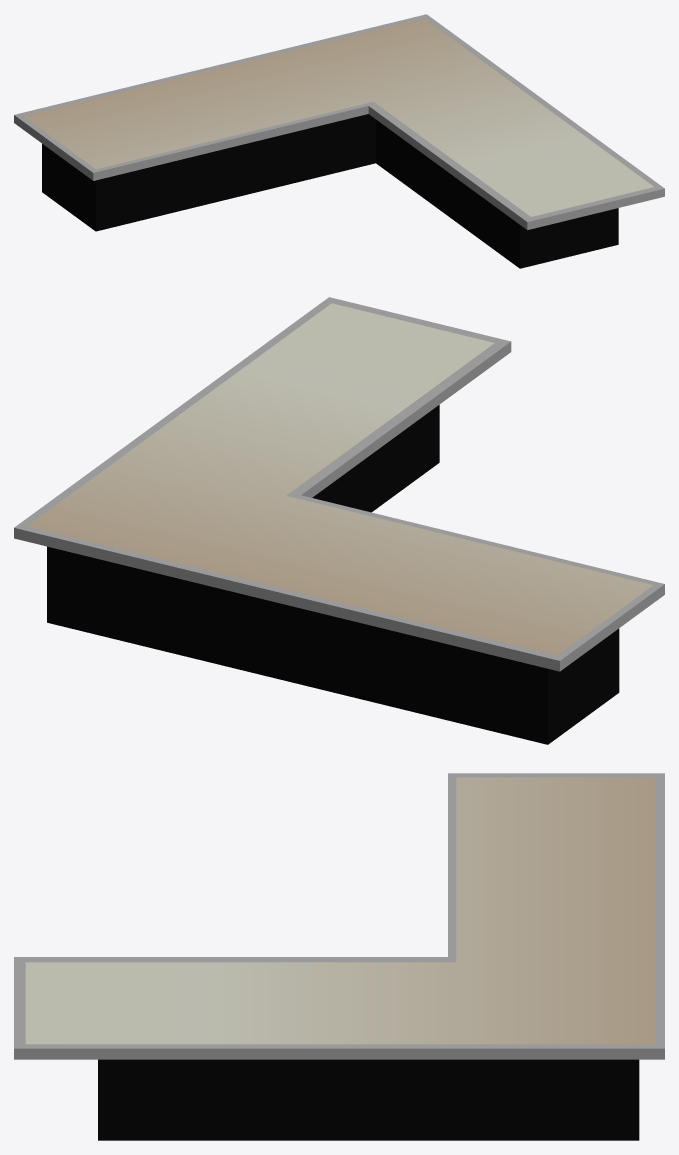
Rendered from SM_tableTShape.fbx.
3 renders of one model, top to bottom at view 1: azimuth 30°, elevation 25°; view 2: azimuth 150°, elevation 25°; view 3: azimuth 270°, elevation 25°, orthographic. The views are drawn at different scales.
Visible parts, largest first — view 1: pCube39, pCube40; view 2: pCube39, pCube40; view 3: pCube39, pCube40.
Boxes of the visible parts, x1=… form: pCube39: x1=14, y1=14, x2=664, y2=229; pCube40: x1=42, y1=114, x2=618, y2=268; pCube39: x1=14, y1=297, x2=664, y2=671; pCube40: x1=47, y1=405, x2=619, y2=744; pCube39: x1=14, y1=773, x2=664, y2=1059; pCube40: x1=98, y1=1059, x2=639, y2=1140.
Size of the model in its own units: 300 by 52 by 300.
3 materials, 1 textured.
